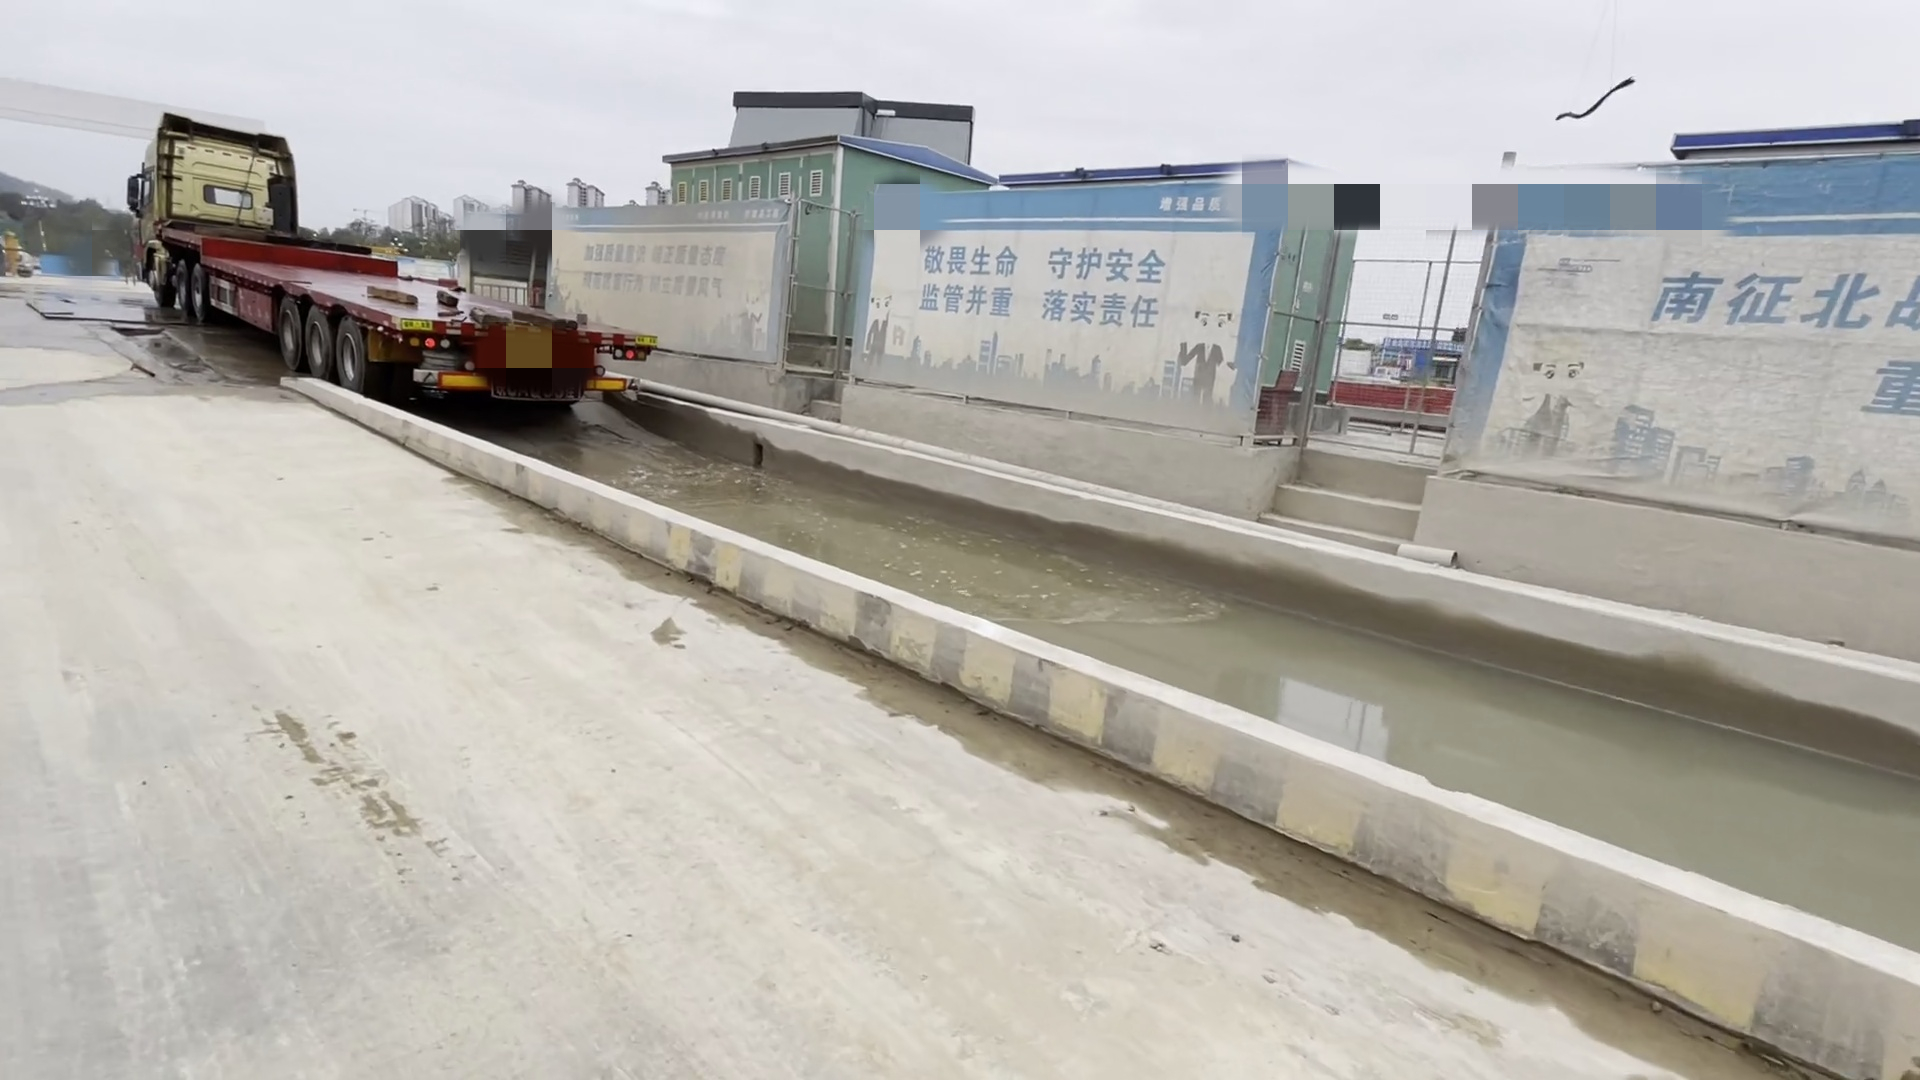slogan: (1601, 218, 1920, 462), (899, 208, 1192, 381), (560, 204, 765, 322)
